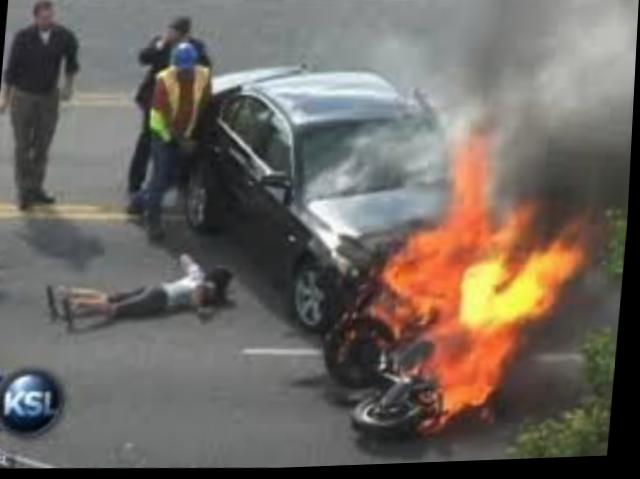fire: (340, 144, 603, 438)
